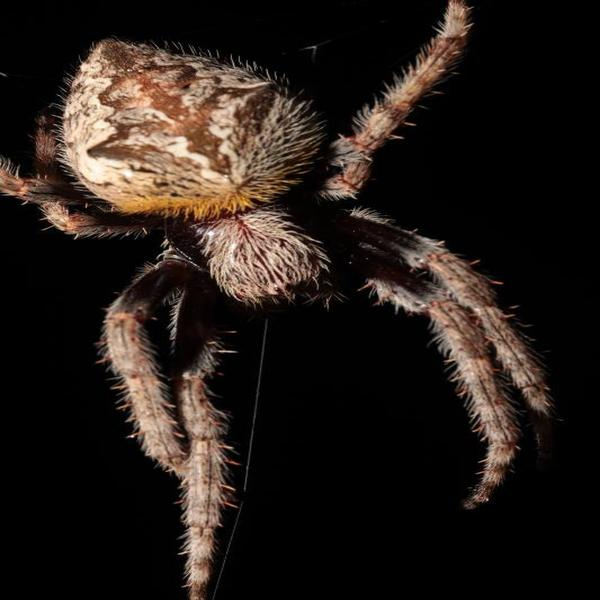Garden_Orb_Weaver_Spider: (15, 6, 549, 598)
